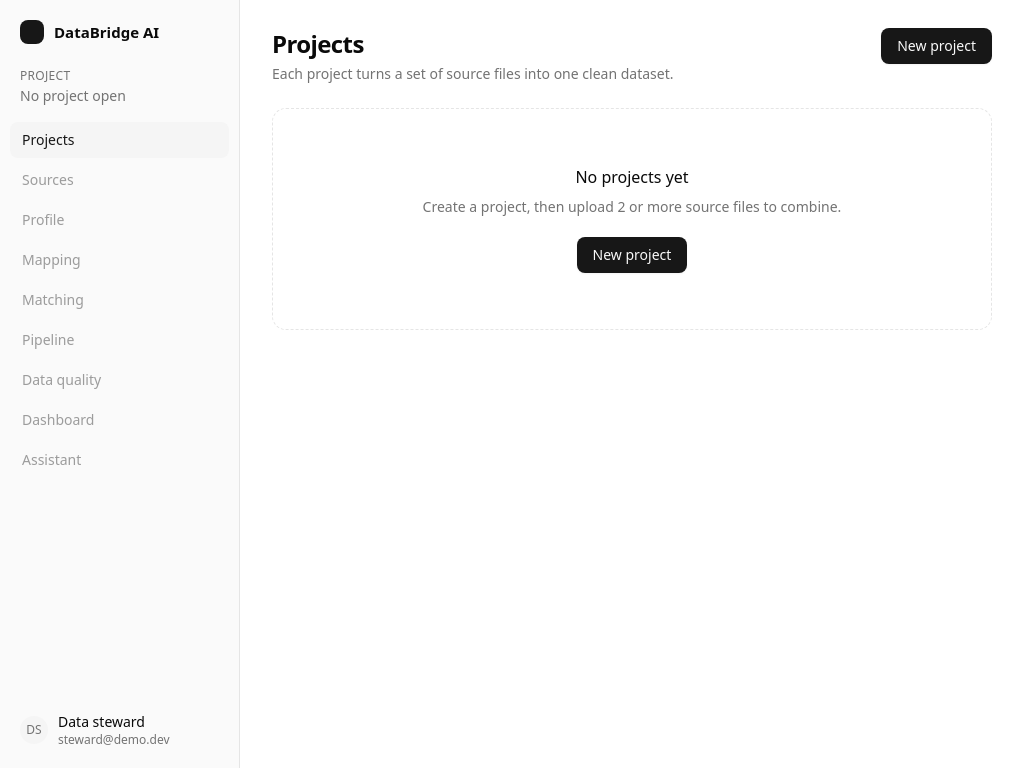
it: new project dialog › shows server validation errors next to the field
The image size is (1024, 768).
Click the 1st button "New project" at x=937, y=46, box [881, 28, 992, 64]
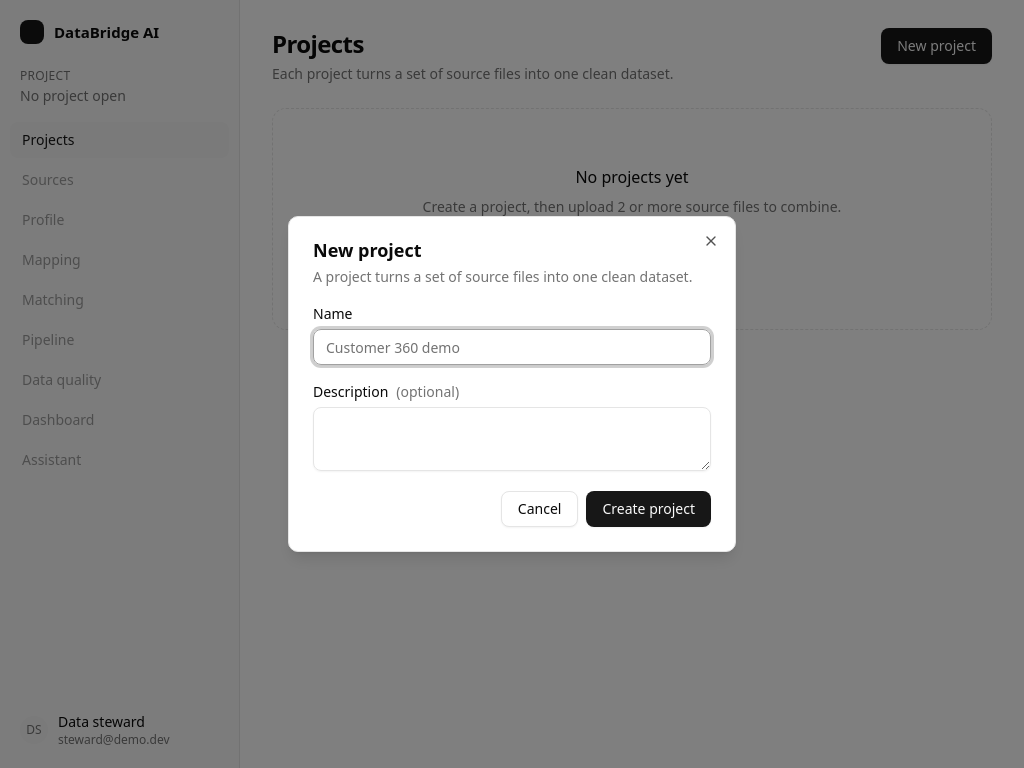
Type "A name" into the field labelled "Name" at x=512, y=347, box [313, 329, 711, 365]
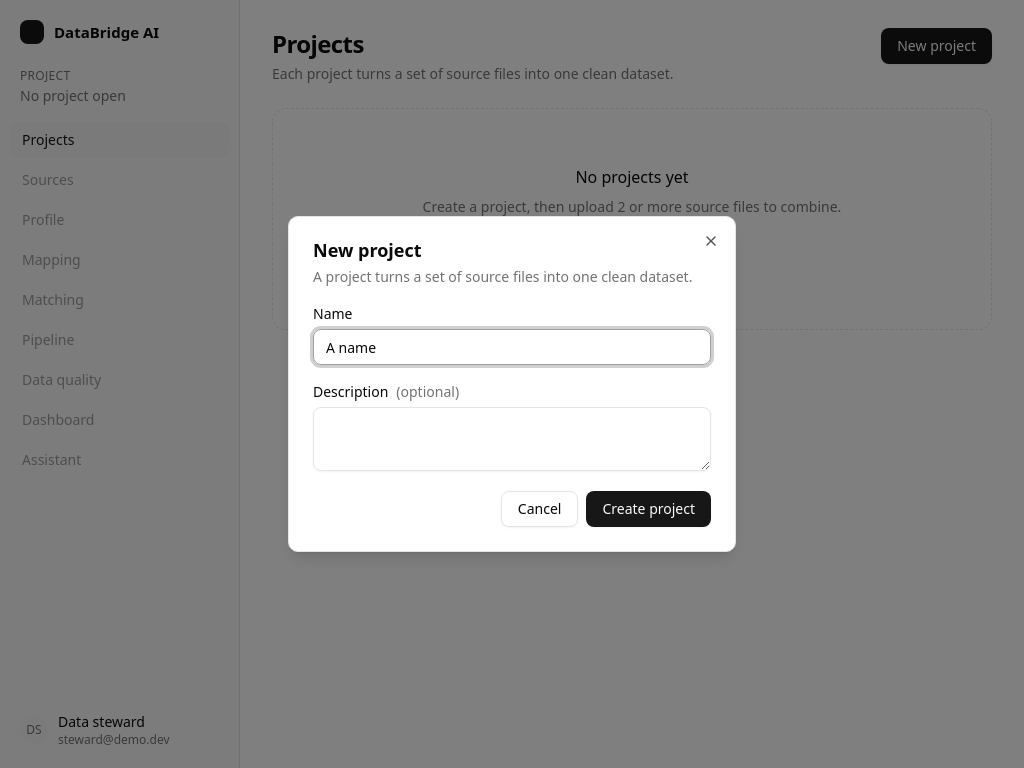
Click the button "Create project" at x=649, y=509, box [586, 491, 711, 527]
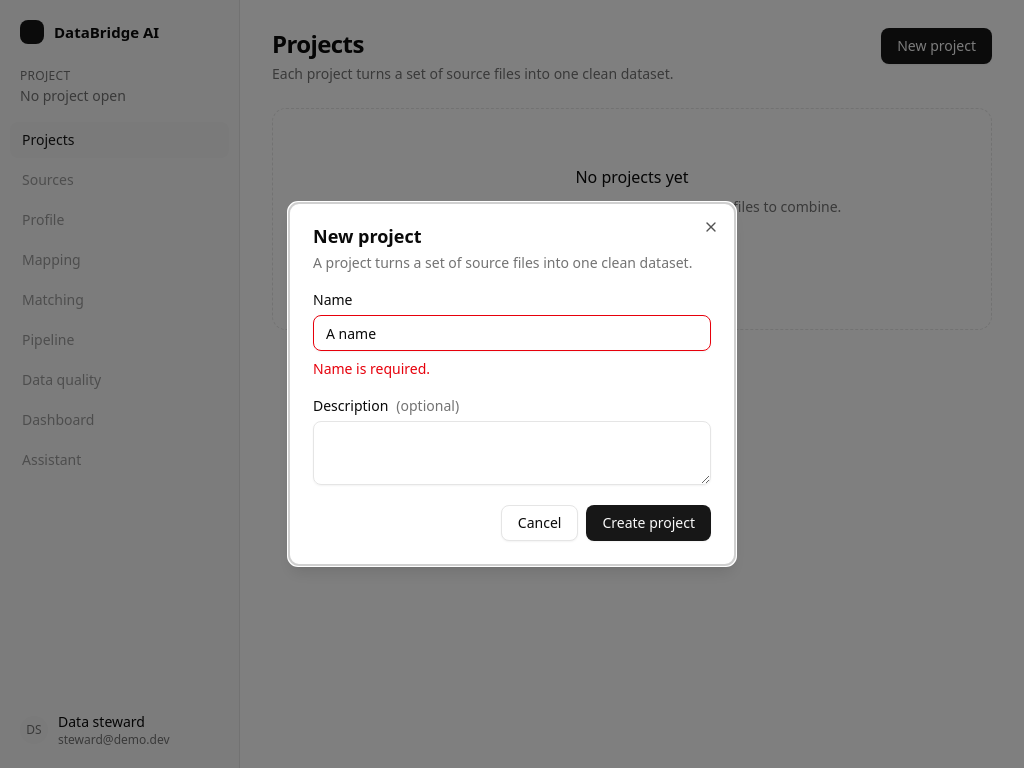
Check: the text "Name is required." is shown, box [313, 359, 430, 378]
